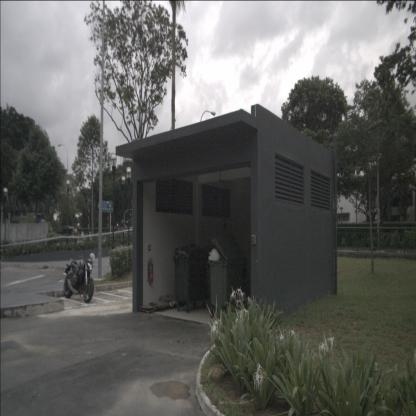vehicle-car: (52, 226, 80, 244)
vehicle-motorcycle: (64, 252, 95, 303)
